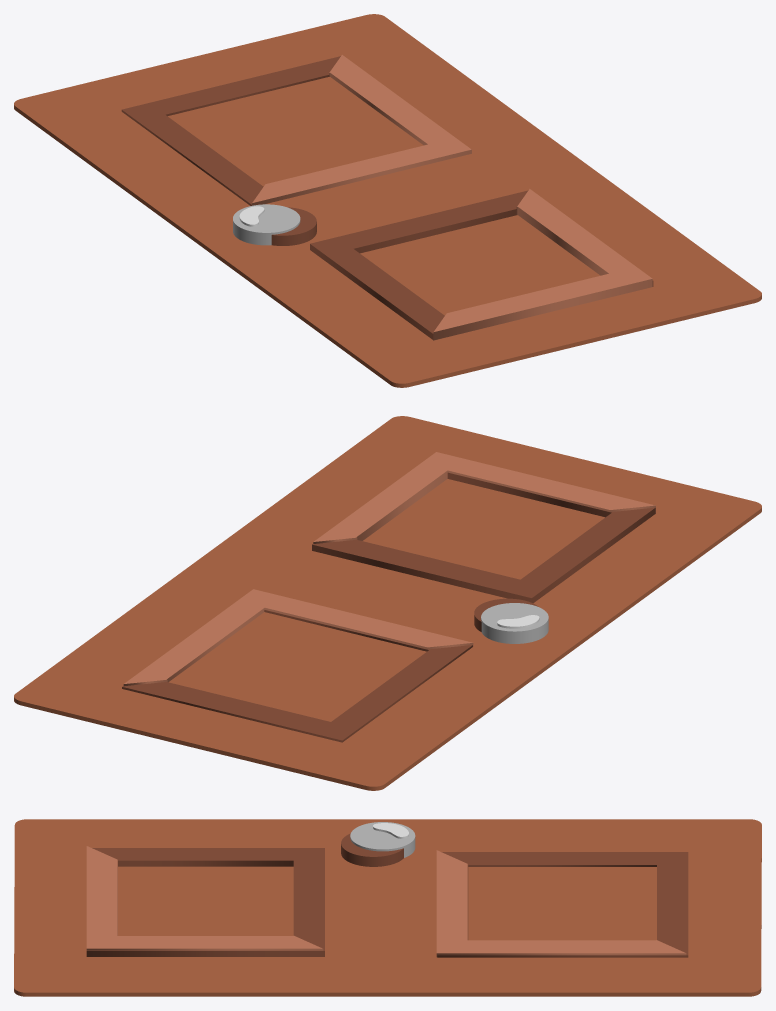
File: emoji_u1f6aa.glb
3 views of the same model, one above another, from view 1: azimuth 30°, elevation 25°; view 2: azimuth 150°, elevation 25°; view 3: azimuth 270°, elevation 25° (orthographic). The views are drawn at different scales.
Parts seen in each view (by area): view 1: emoji_u1f6aa; view 2: emoji_u1f6aa; view 3: emoji_u1f6aa.
Boxes of the visible parts, x1=… form: emoji_u1f6aa: x1=14, y1=14, x2=761, y2=387; emoji_u1f6aa: x1=14, y1=416, x2=761, y2=790; emoji_u1f6aa: x1=14, y1=819, x2=761, y2=996.
Bounding box in the file's own units: 0.0186 × 0.0016 × 0.0339.
